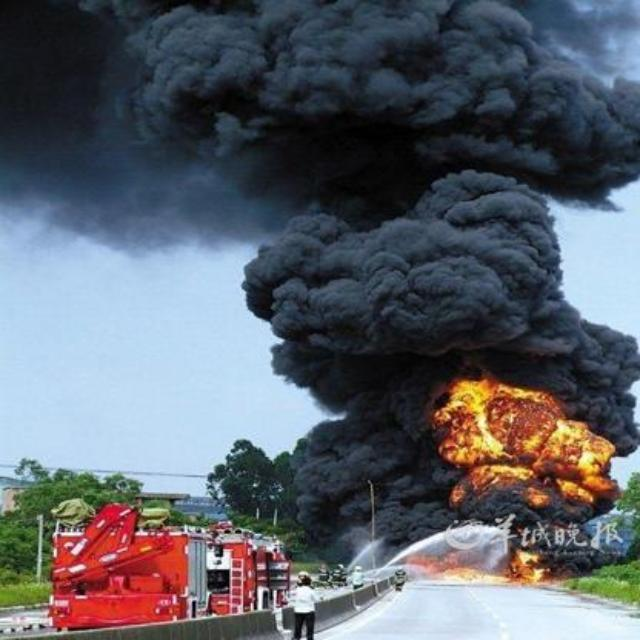Fire: (433, 370, 613, 506), (413, 551, 552, 587)
Smoke: (5, 3, 640, 370), (278, 374, 442, 538), (618, 374, 640, 456)
